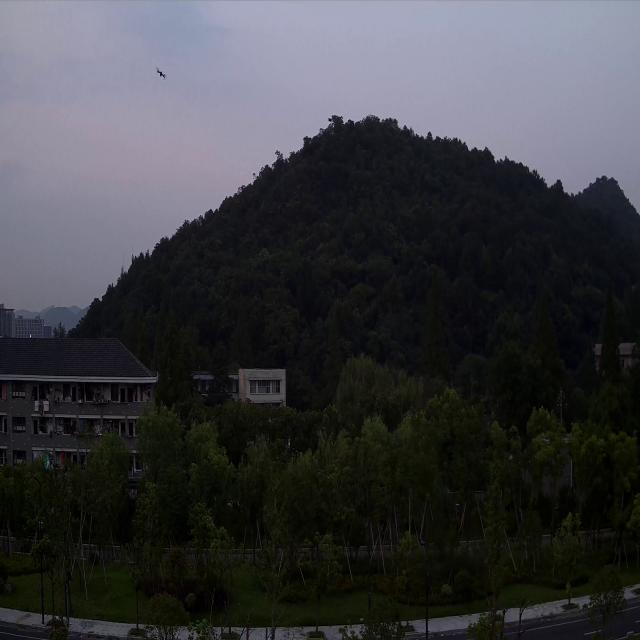UAV: (156, 66, 167, 81)
